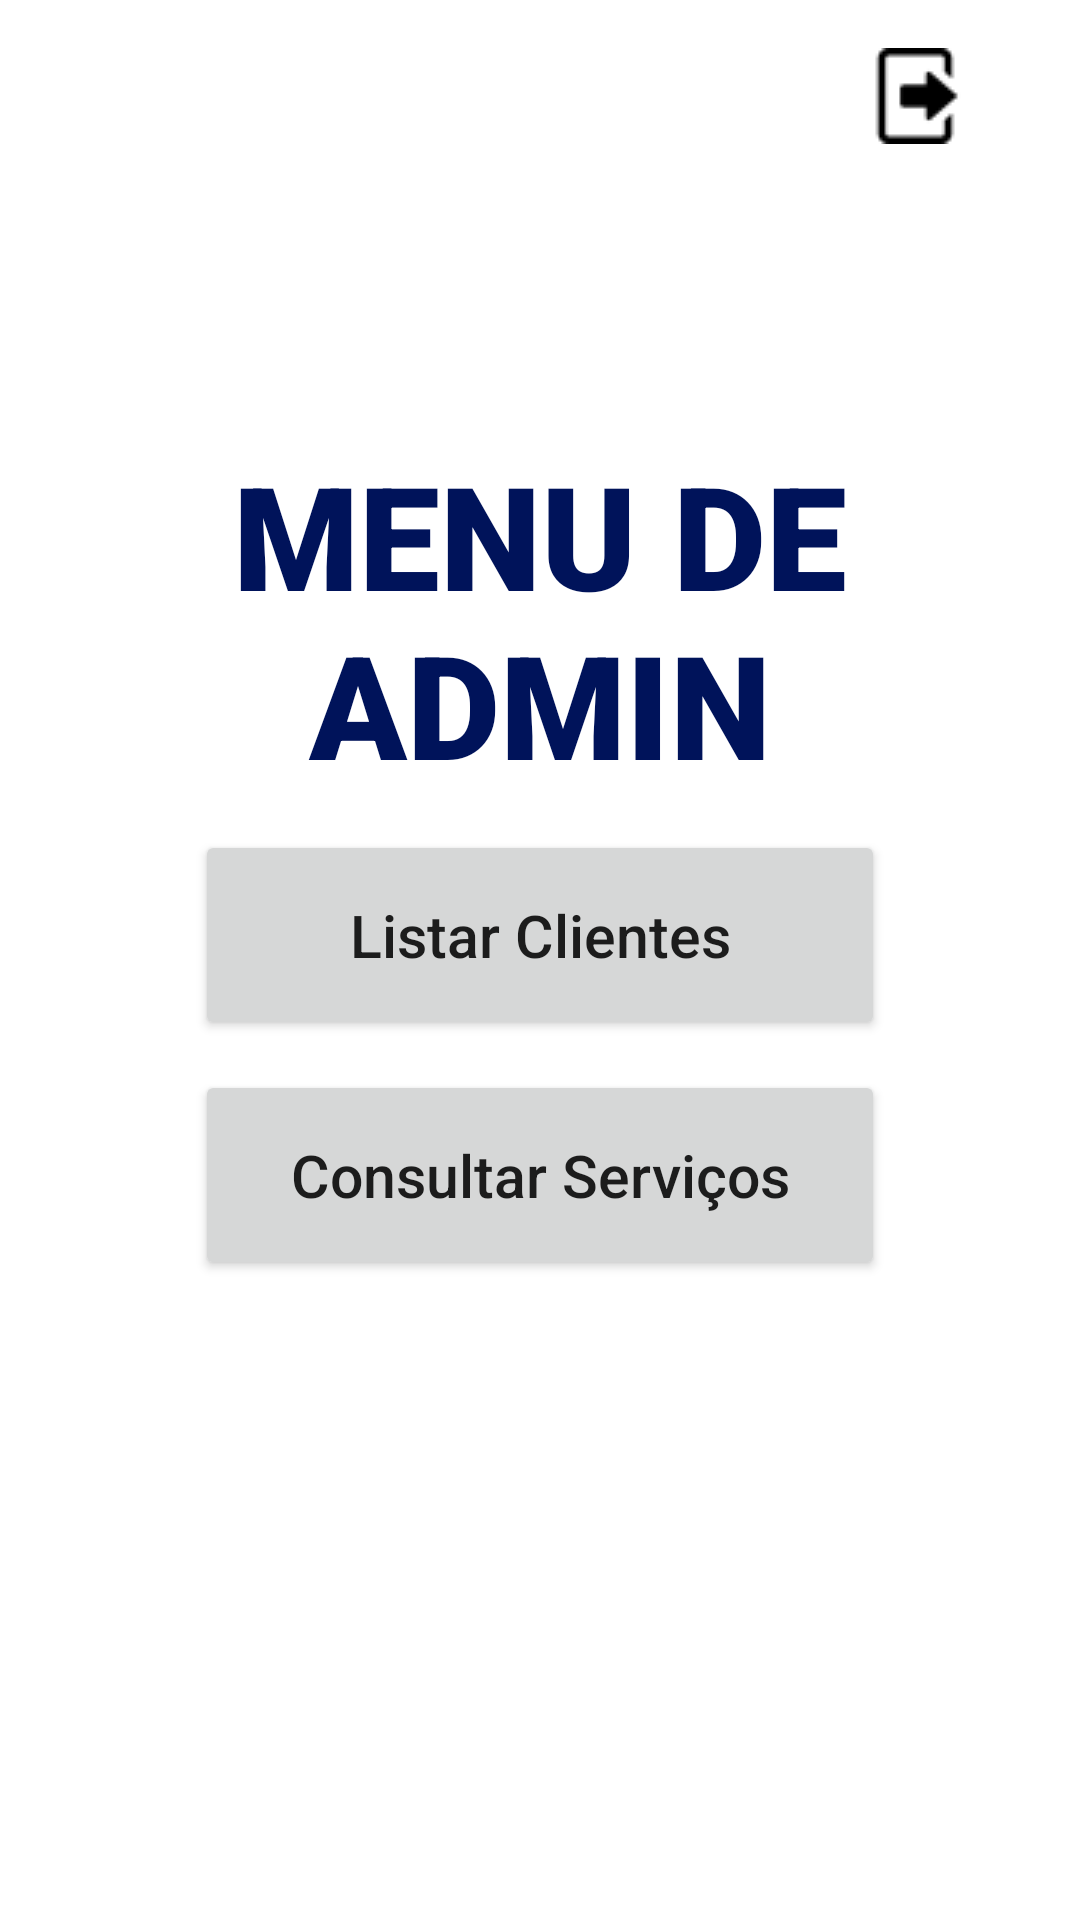

Screen size 1080×1920. Icon name, then its center in pixels as (x=x, y=y):
Deslogar: (x=916, y=96)
